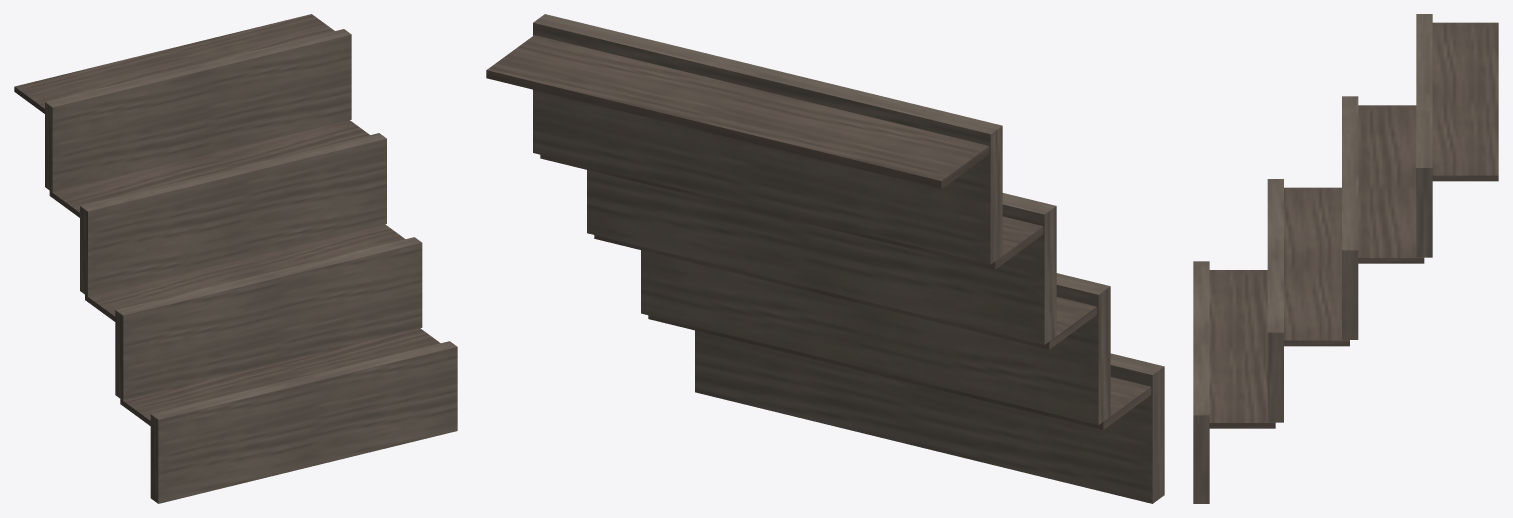
The picture shows the model from 3 angles, left to right: view 1: azimuth 30°, elevation 25°; view 2: azimuth 150°, elevation 25°; view 3: azimuth 270°, elevation 25°; orthographic projection. The views are drawn at different scales.
Bounding box in the file's own units: 1 × 1.02 × 0.839.
1 material, 1 textured.
